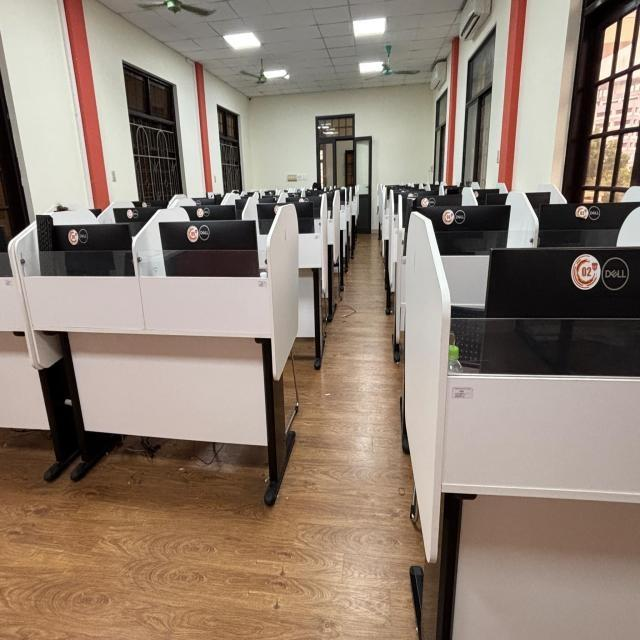obstacle: (406, 212, 640, 640), (8, 208, 301, 506)
